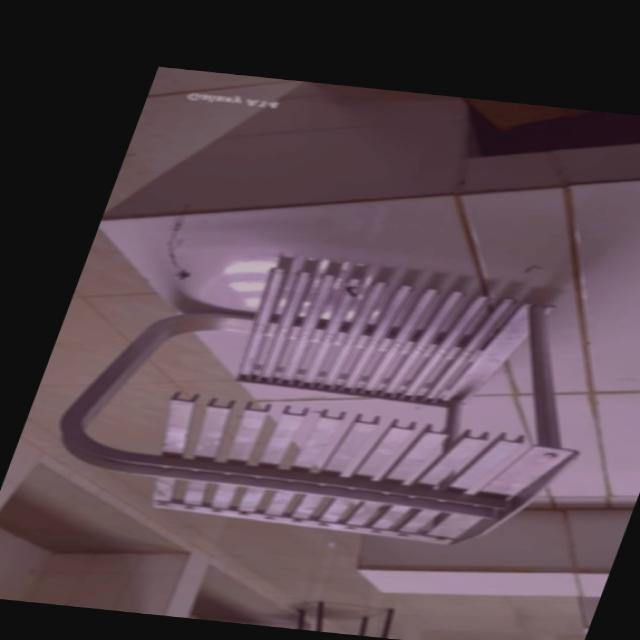Plate Rack: (25, 241, 640, 561)
